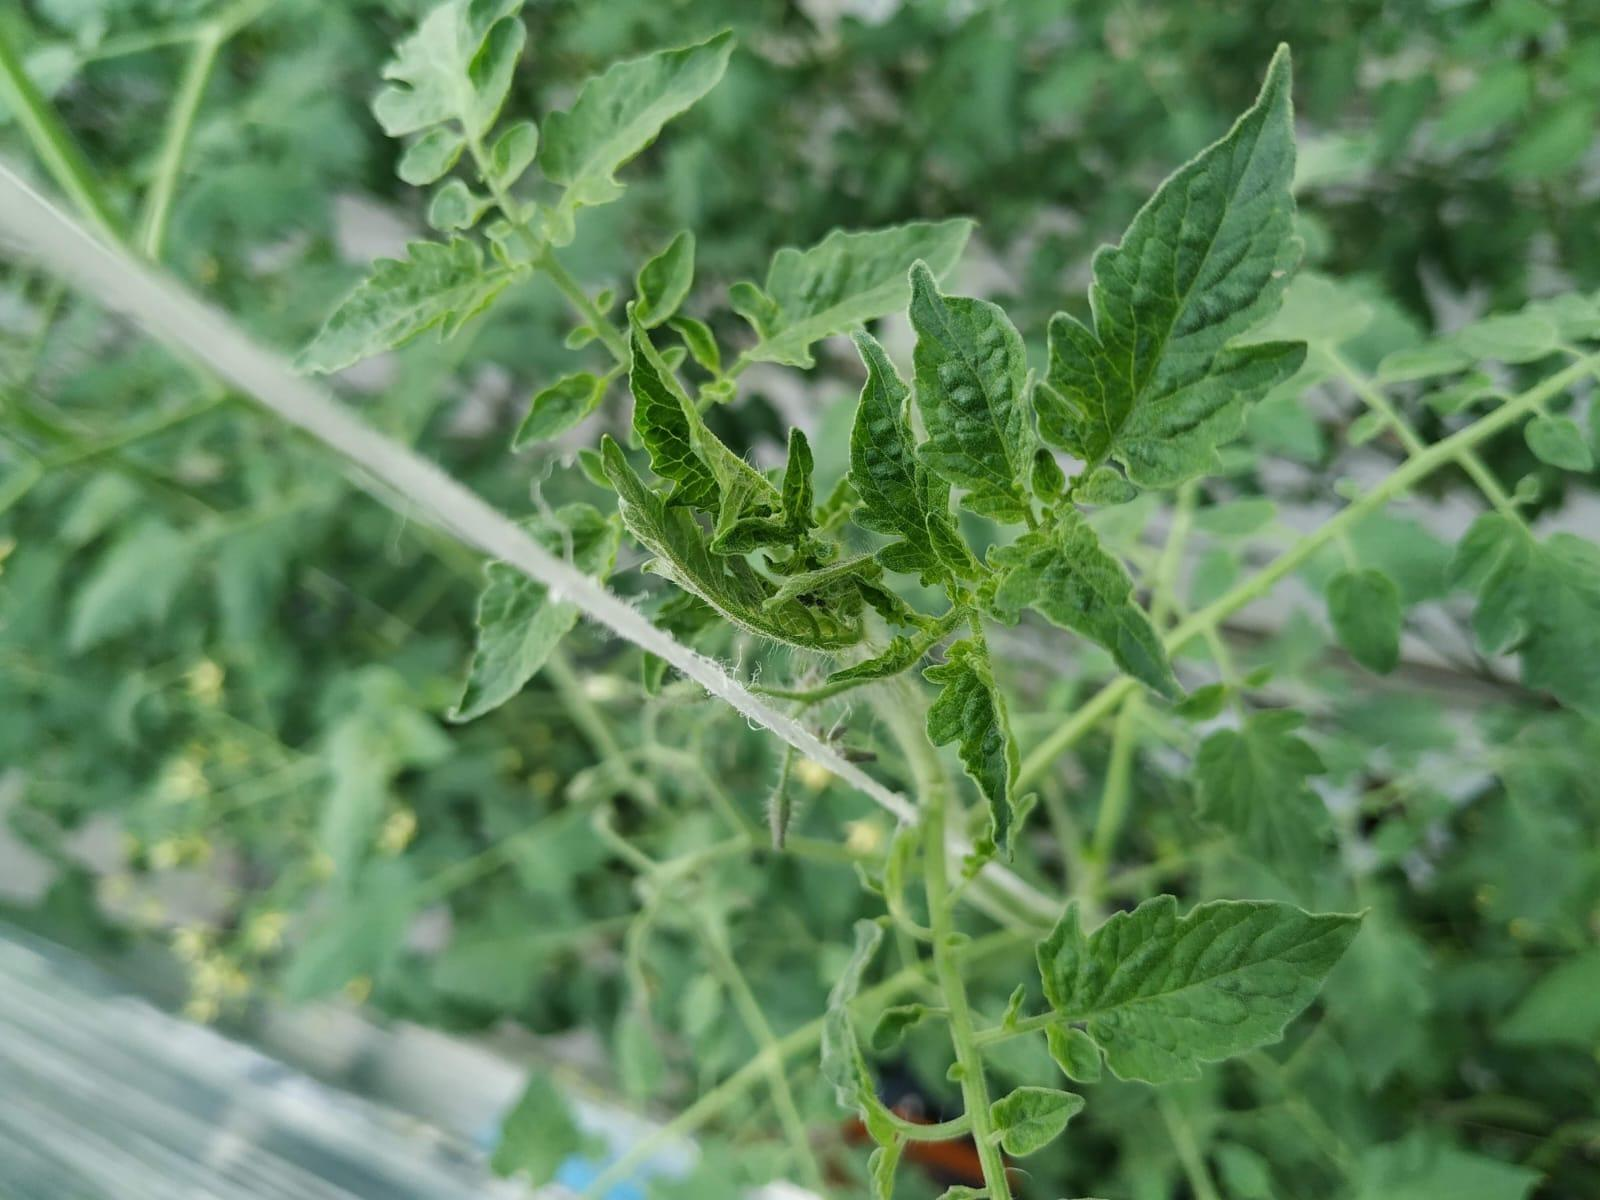Hoja: (1038, 895, 1362, 1084), (850, 332, 978, 587)
Hoja rugoso: (1036, 43, 1305, 487), (910, 266, 1038, 522), (922, 638, 1019, 850)
